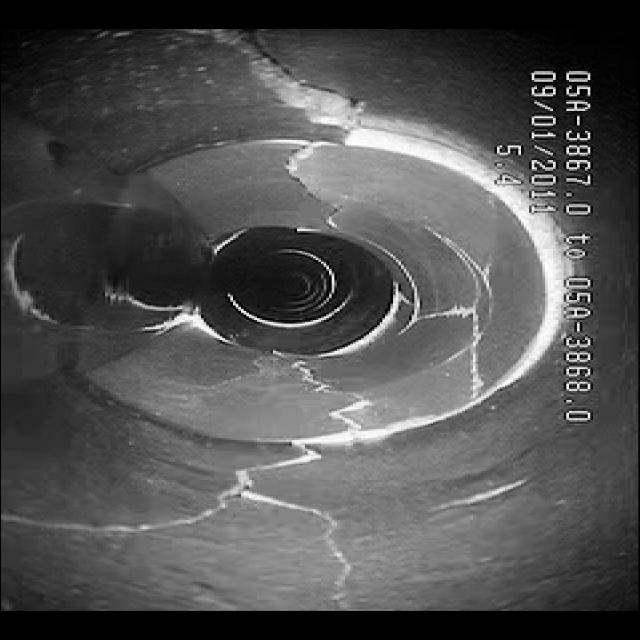Fracture: (228, 35, 390, 207)
